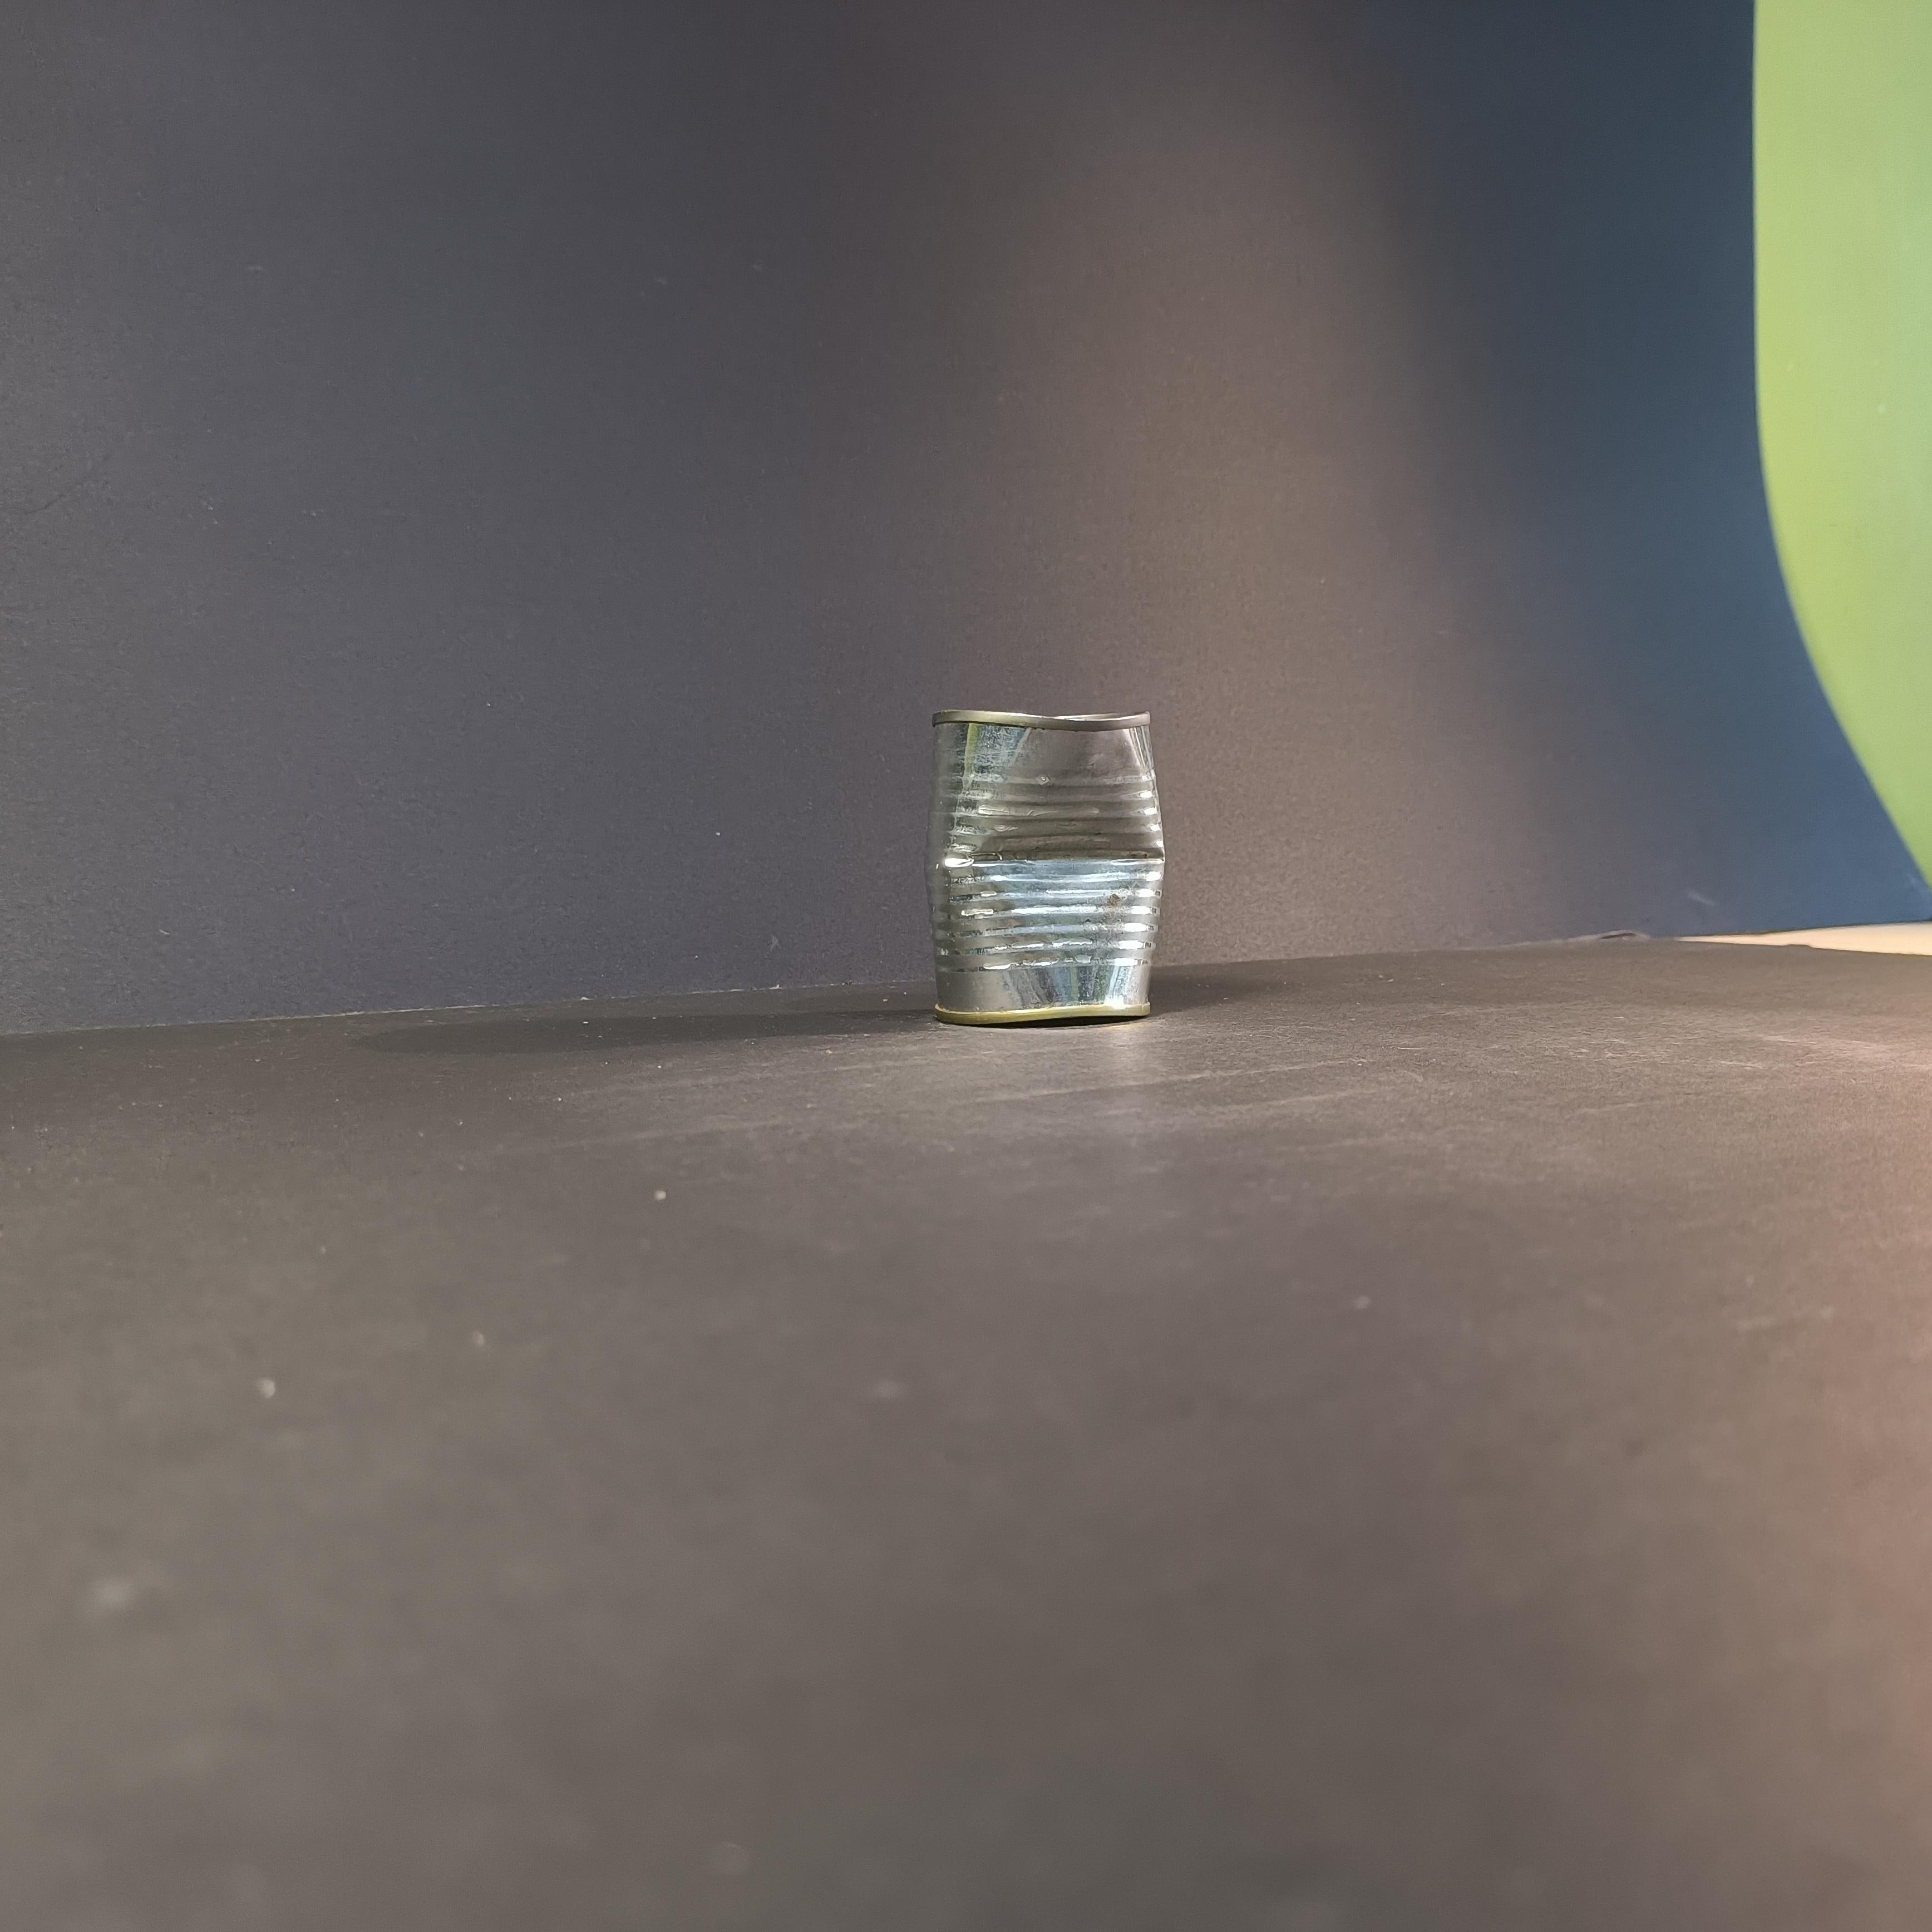Dented: (904, 676, 1171, 1031)
